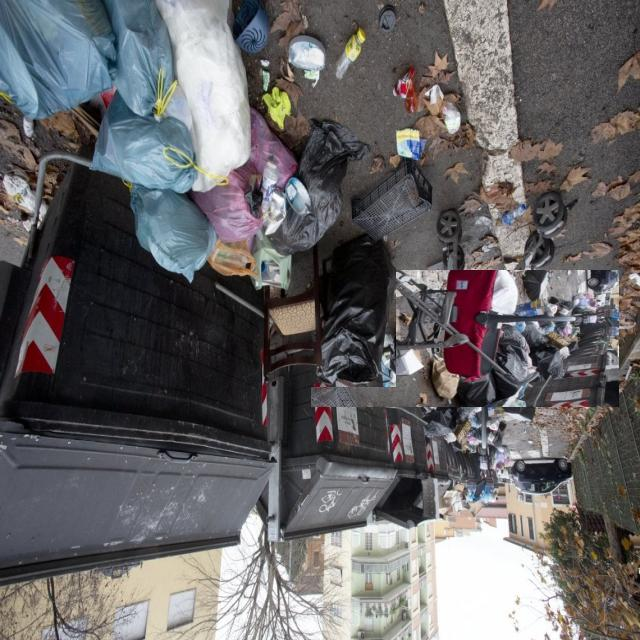garbage: (6, 0, 396, 387), (354, 227, 576, 450)
